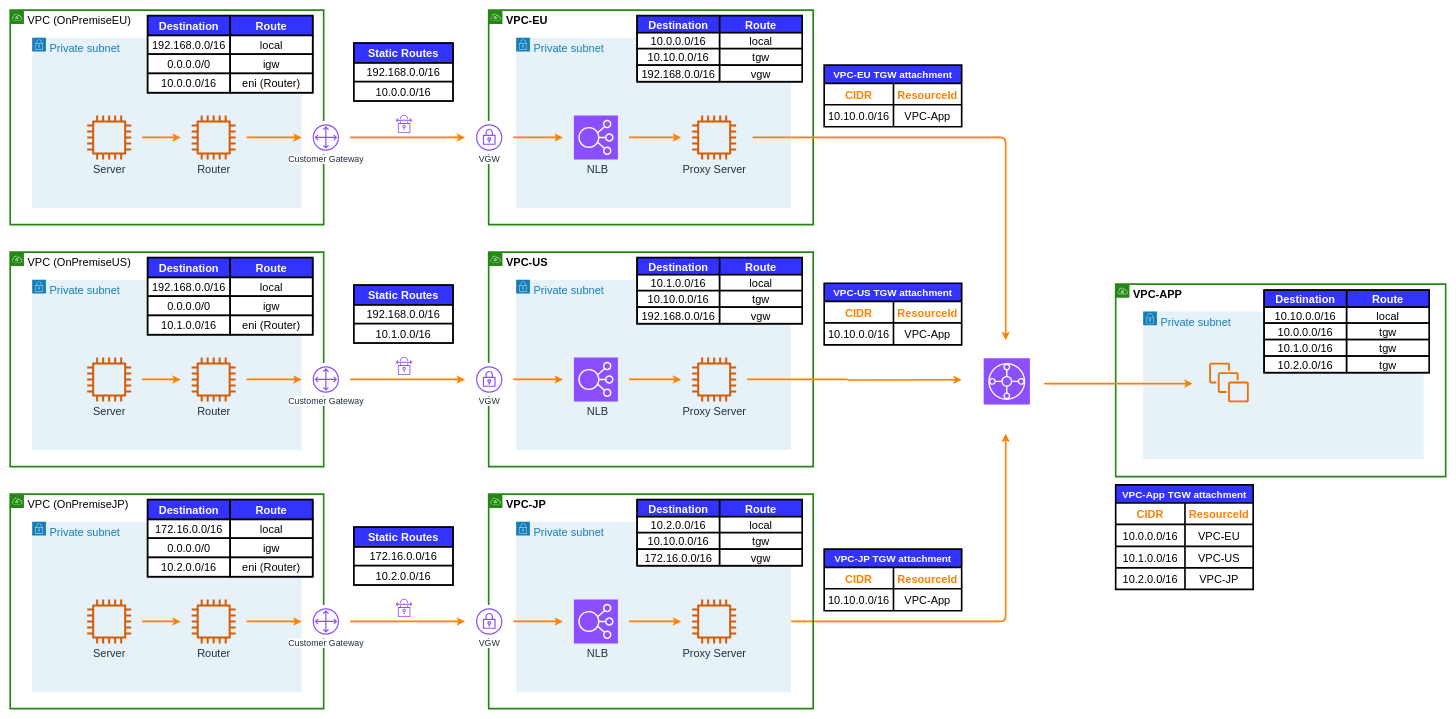
Image size: 1456x719. Some labels were removed from this diagram. The centre of each missing label's shape, as x and y in pixels:
Application Server: the point at 1228,382
Transit Gateway: the point at 1006,381
